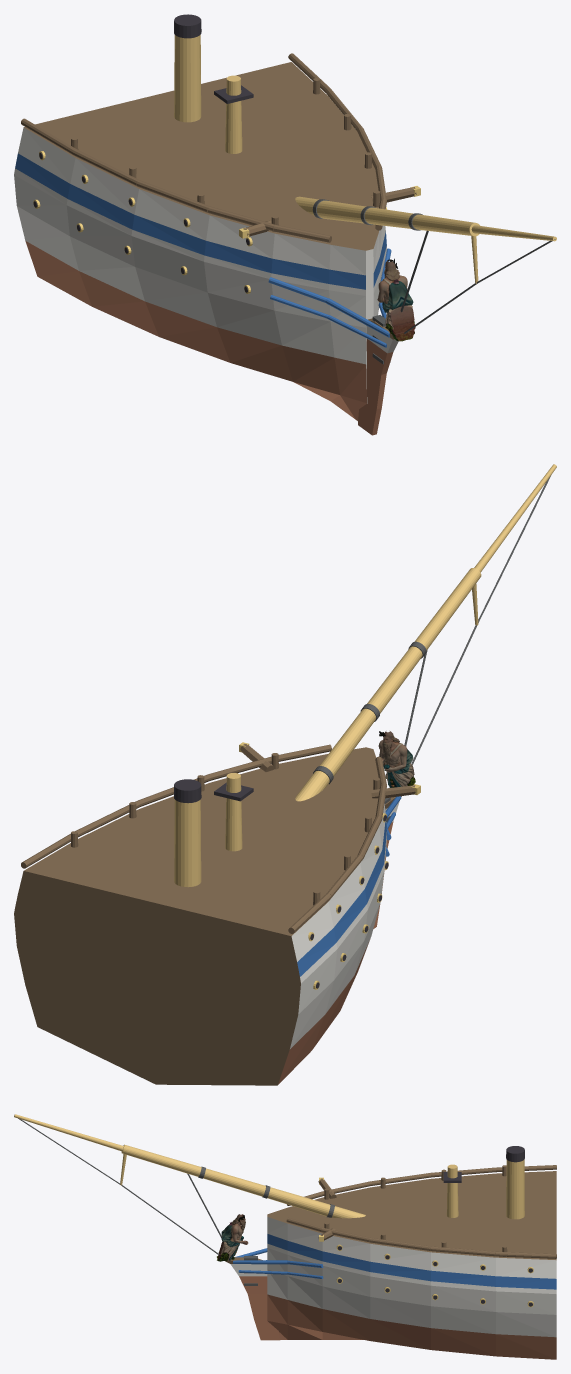
Rendered from tamar.glb.
3 views of the same model, one above another, from view 1: azimuth 30°, elevation 25°; view 2: azimuth 150°, elevation 25°; view 3: azimuth 270°, elevation 25° (orthographic). The views are drawn at different scales.
Parts seen in each view (by area): view 1: tamar_ParentBow, tamar_Figurehead; view 2: tamar_ParentBow, tamar_Figurehead; view 3: tamar_ParentBow, tamar_Figurehead.
Part boxes in pixels (x1,y1,x2,y2): tamar_ParentBow: [14, 14, 556, 435]; tamar_Figurehead: [377, 258, 415, 341]; tamar_ParentBow: [14, 464, 556, 1085]; tamar_Figurehead: [378, 731, 415, 787]; tamar_ParentBow: [14, 1114, 556, 1359]; tamar_Figurehead: [217, 1214, 248, 1261].
Bounding box in the file's own units: 12.3 × 13.52 × 29.54.
2 materials, 2 textured.
